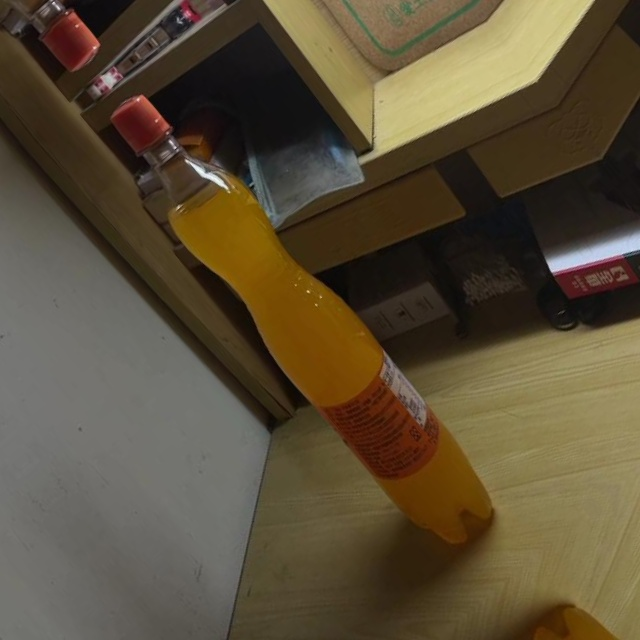Fanta: (82, 75, 515, 564)
